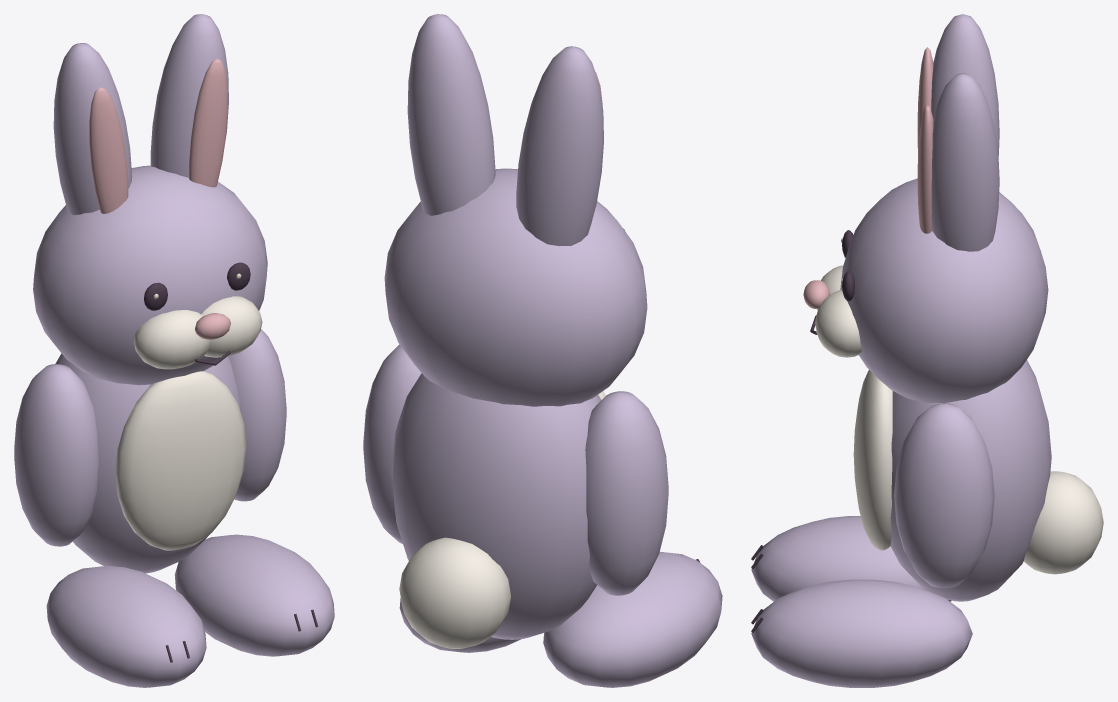
Rendered from plush_rabbit.glb.
The picture shows the model from 3 angles, left to right: view 1: azimuth 30°, elevation 25°; view 2: azimuth 150°, elevation 25°; view 3: azimuth 270°, elevation 25°; orthographic projection. The views are drawn at different scales.
Visible parts, largest first — view 1: Rabbit stuffed head, Rabbit cream belly, Rabbit long foot -1, Rabbit long foot 1, Rabbit soft arm -1, Rabbit stuffed body, Rabbit long upright ear -1, Rabbit long upright ear 1, Rabbit soft arm 1, Rabbit sewn pink ear inset -1, Rabbit sewn pink ear inset 1, Rabbit muzzle cheek -1 (+4 smaller); view 2: Rabbit stuffed head, Rabbit stuffed body, Rabbit long foot -1, Rabbit soft arm -1, Rabbit long upright ear -1, Rabbit long upright ear 1, Rabbit cotton tail, Rabbit soft arm 1, Rabbit long foot 1; view 3: Rabbit stuffed head, Rabbit long foot 1, Rabbit stuffed body, Rabbit soft arm 1, Rabbit long upright ear 1, Rabbit long foot -1, Rabbit cream belly, Rabbit cotton tail, Rabbit long upright ear -1, Rabbit muzzle cheek 1, Rabbit sewn pink ear inset 1, Rabbit sewn pink ear inset -1 (+1 smaller).
Boxes of the visible parts, box(x1,y1,x2,y2) form: Rabbit stuffed head: box(33, 165, 267, 385); Rabbit cream belly: box(115, 371, 246, 550); Rabbit long foot -1: box(46, 566, 206, 687); Rabbit long foot 1: box(174, 534, 334, 656); Rabbit soft arm -1: box(14, 364, 98, 546); Rabbit stuffed body: box(55, 353, 240, 573); Rabbit long upright ear -1: box(53, 43, 132, 214); Rabbit long upright ear 1: box(150, 14, 228, 177); Rabbit soft arm 1: box(228, 329, 286, 501); Rabbit sewn pink ear inset -1: box(89, 87, 128, 213); Rabbit sewn pink ear inset 1: box(189, 58, 227, 187); Rabbit muzzle cheek -1: box(133, 310, 209, 369); Rabbit stuffed head: box(384, 168, 647, 406); Rabbit stuffed body: box(391, 373, 601, 639); Rabbit long foot -1: box(543, 551, 722, 687); Rabbit soft arm -1: box(585, 391, 668, 595); Rabbit long upright ear -1: box(516, 46, 603, 246); Rabbit long upright ear 1: box(407, 14, 495, 215); Rabbit cotton tail: box(399, 537, 510, 648); Rabbit soft arm 1: box(363, 344, 421, 543); Rabbit long foot 1: box(399, 598, 520, 652); Rabbit stuffed head: box(840, 178, 1048, 403); Rabbit long foot 1: box(751, 579, 972, 687); Rabbit stuffed body: box(890, 360, 1051, 601); Rabbit soft arm 1: box(894, 403, 994, 588); Rabbit long upright ear 1: box(931, 73, 999, 251); Rabbit long foot -1: box(751, 516, 951, 601); Rabbit cream belly: box(853, 370, 892, 550); Rabbit cotton tail: box(1023, 471, 1103, 574); Rabbit long upright ear -1: box(931, 14, 999, 155); Rabbit muzzle cheek 1: box(815, 290, 861, 357); Rabbit sewn pink ear inset 1: box(917, 105, 933, 233); Rabbit sewn pink ear inset -1: box(917, 47, 933, 153).
Bounding box in the file's own units: 0.182 × 0.3965 × 0.2101.
